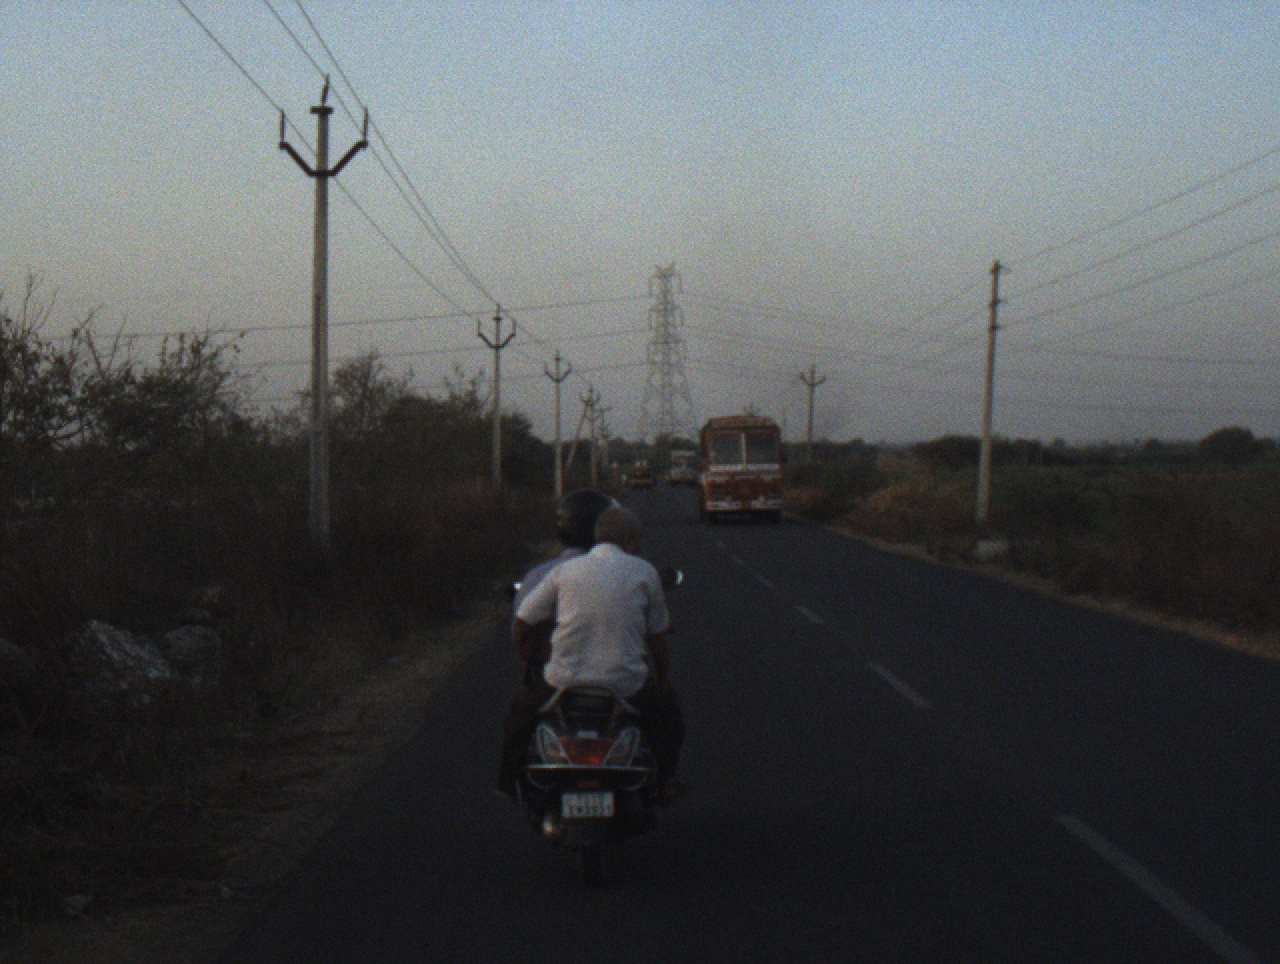autorickshaw: (626, 462, 660, 492)
motorcycle: (503, 558, 696, 885)
rider: (489, 505, 691, 814), (508, 493, 620, 627)
truck: (695, 407, 795, 528), (663, 445, 703, 491)
